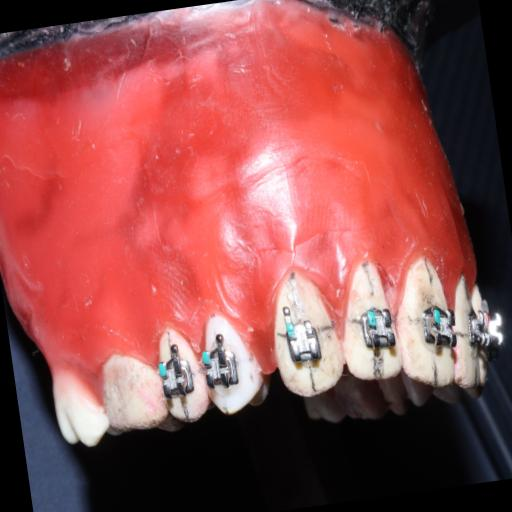incorrect_brace: (331, 255, 404, 388), (281, 314, 325, 366), (356, 304, 398, 358)
